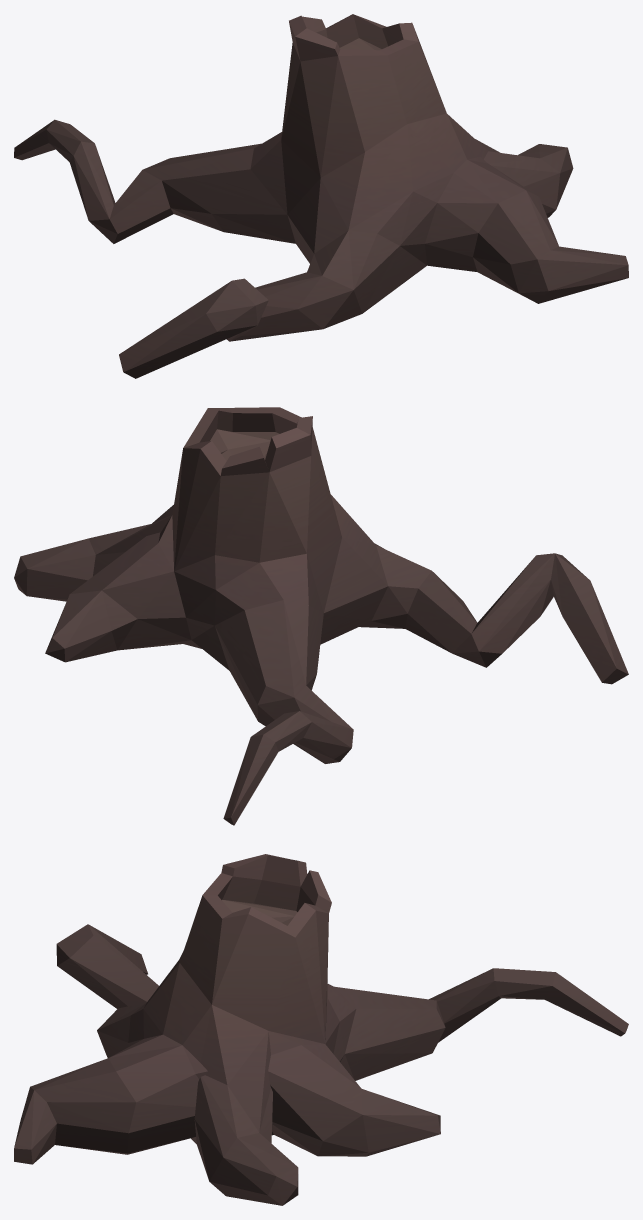
Rendered from stump1.glb.
The picture shows the model from 3 angles, top to bottom: view 1: azimuth 30°, elevation 25°; view 2: azimuth 150°, elevation 25°; view 3: azimuth 270°, elevation 25°; orthographic projection. The views are drawn at different scales.
Visible parts, largest first — view 1: stump1; view 2: stump1; view 3: stump1.
Part boxes in pixels (x1,y1,x2,y2): stump1: (14,14,628,378); stump1: (14,407,628,825); stump1: (14,854,628,1205).
Bounding box in the file's own units: 1.97 × 0.8783 × 1.99.
1 material, 1 textured.
